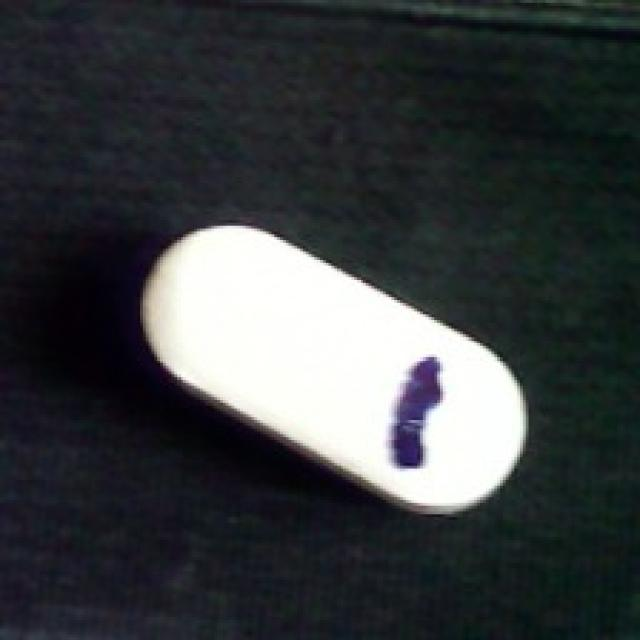defected: (129, 217, 534, 512)
